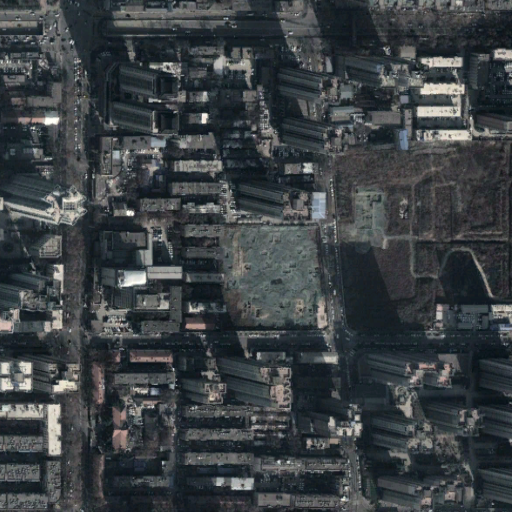cw: (212, 223, 329, 331), (335, 189, 387, 250)
